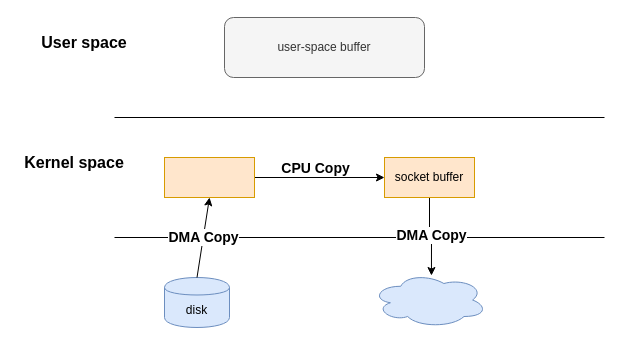
This 624x345 diagram has some shape labels left out. Each missing label, with the centre of its shape:
network: [429,300]
page cache: [209,177]
